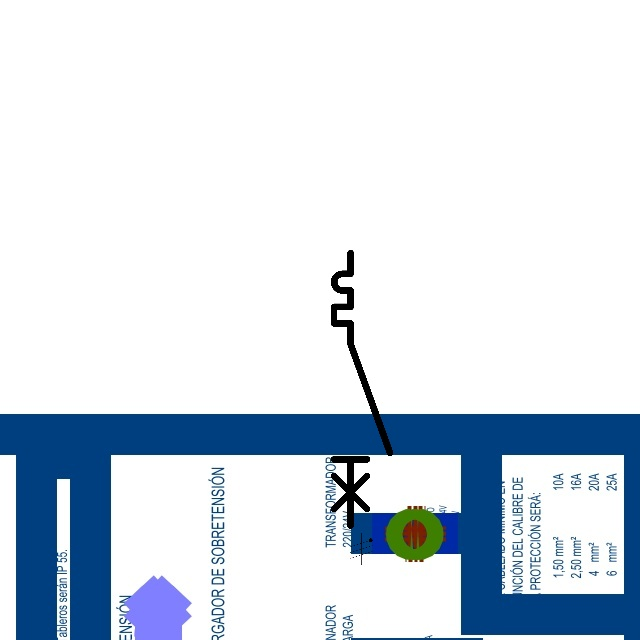interruptor_termomagnetico: (327, 246, 397, 532)
